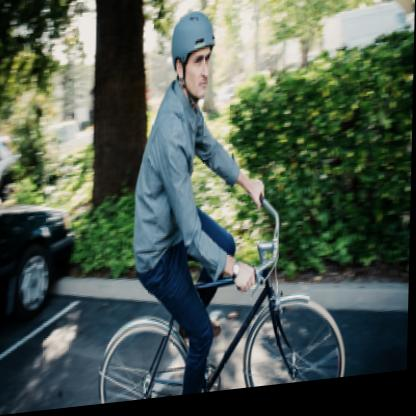With Helmet: (162, 8, 221, 111)
